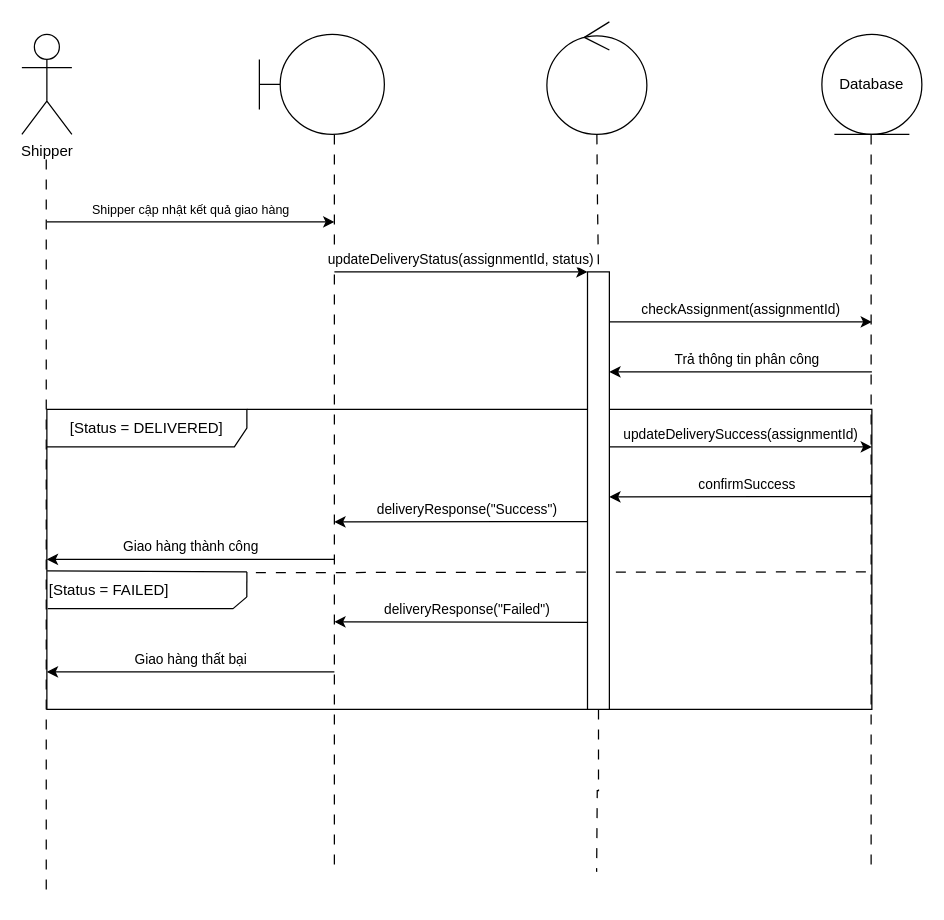
Image size: 944x920. Some labels were removed from this diagram. Here are the shapes that lost their labels. From the top down, the box of each, then its label:
(258, 33, 384, 134): ShipperUI
(546, 21, 647, 134): Delivery Controller
